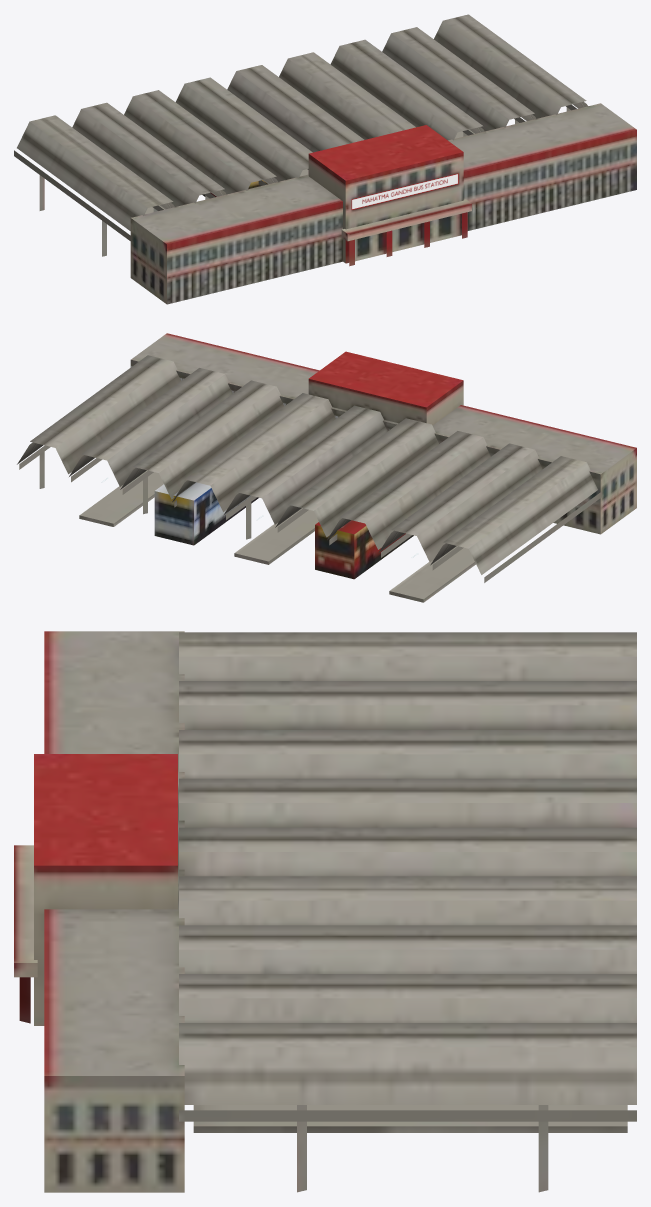
Rendered from imlibun_mgbs.glb.
The picture shows the model from 3 angles, top to bottom: view 1: azimuth 30°, elevation 25°; view 2: azimuth 150°, elevation 25°; view 3: azimuth 270°, elevation 25°; orthographic projection. The views are drawn at different scales.
Visible parts, largest first — view 1: imlibun_mgbs_body, imlibun_mgbs_sheet; view 2: imlibun_mgbs_body; view 3: imlibun_mgbs_body.
Boxes of the visible parts, bbox=[...] form: imlibun_mgbs_body: bbox=[14, 14, 636, 304]; imlibun_mgbs_sheet: bbox=[351, 173, 458, 209]; imlibun_mgbs_body: bbox=[17, 333, 636, 602]; imlibun_mgbs_body: bbox=[14, 631, 636, 1192].
Size of the model in its own units: 200 by 33.7 by 119.
Materials: 2 (2 with a texture image).
